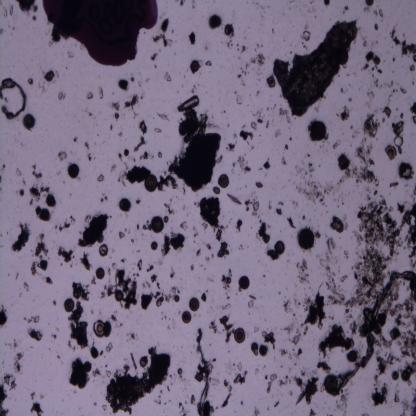Background material: (353, 199, 416, 312), (102, 345, 172, 413), (318, 238, 353, 309), (292, 159, 338, 205), (338, 142, 380, 187), (102, 267, 139, 309), (317, 323, 357, 357), (77, 212, 111, 249), (390, 26, 416, 72), (67, 304, 91, 350), (150, 276, 181, 308), (196, 327, 207, 415), (304, 289, 328, 328), (198, 195, 222, 230), (295, 373, 319, 407), (172, 113, 206, 136), (67, 357, 89, 389), (374, 75, 409, 95), (10, 221, 30, 254), (119, 166, 152, 186), (363, 48, 384, 77), (374, 372, 390, 410), (162, 231, 185, 257), (285, 301, 302, 336), (295, 252, 311, 286), (391, 119, 406, 155), (220, 314, 235, 345), (34, 231, 50, 258), (364, 112, 381, 137), (219, 267, 234, 295), (233, 362, 250, 386), (40, 68, 60, 88), (331, 213, 351, 233), (334, 391, 349, 416), (71, 282, 89, 302), (56, 216, 77, 233), (124, 92, 140, 114), (398, 161, 414, 183), (57, 245, 75, 264), (26, 186, 43, 206), (220, 379, 233, 405), (15, 0, 39, 14), (401, 392, 415, 416), (157, 175, 178, 191), (256, 222, 270, 244), (249, 52, 266, 70), (132, 135, 148, 154), (235, 64, 249, 85), (244, 198, 260, 216), (207, 12, 222, 31), (0, 386, 10, 414), (266, 370, 277, 394), (79, 254, 93, 272), (278, 107, 291, 126), (13, 352, 24, 374), (141, 292, 153, 312), (316, 359, 332, 374), (154, 34, 172, 47), (217, 241, 230, 259), (237, 157, 252, 172), (262, 330, 276, 346), (28, 327, 42, 342), (3, 373, 17, 388), (0, 306, 9, 329), (111, 100, 121, 120), (247, 293, 258, 311), (160, 15, 171, 33), (249, 117, 264, 130), (31, 164, 44, 179), (382, 101, 392, 120), (30, 401, 43, 415), (231, 90, 243, 105), (164, 202, 176, 217), (137, 356, 150, 369), (240, 129, 254, 141), (266, 249, 280, 261), (142, 218, 154, 232), (409, 100, 416, 124), (223, 24, 235, 38), (349, 318, 359, 334), (188, 30, 198, 46), (286, 215, 296, 231), (90, 367, 103, 379), (352, 123, 364, 136), (37, 259, 50, 271), (46, 194, 57, 208), (332, 138, 346, 149), (175, 402, 186, 416), (342, 105, 350, 124), (368, 90, 378, 105), (104, 320, 113, 336), (344, 306, 353, 322), (57, 148, 68, 161), (300, 30, 311, 43), (120, 78, 130, 92), (216, 226, 226, 240), (360, 35, 370, 49), (210, 319, 218, 336), (206, 401, 215, 416), (147, 52, 159, 63), (14, 166, 24, 179), (138, 152, 151, 162), (180, 219, 188, 235), (97, 87, 106, 101), (292, 332, 301, 346), (84, 90, 95, 101), (111, 314, 122, 325), (278, 378, 290, 388), (272, 127, 282, 139), (158, 111, 170, 121), (162, 72, 172, 84), (394, 390, 402, 405), (258, 344, 268, 356), (409, 182, 416, 198), (23, 277, 30, 293), (212, 185, 222, 196), (370, 38, 379, 50), (110, 161, 118, 174), (279, 347, 289, 357), (276, 198, 286, 208), (146, 262, 156, 272), (280, 155, 289, 166), (205, 58, 214, 69), (226, 143, 237, 152), (236, 219, 243, 233), (129, 330, 137, 342), (28, 316, 40, 324), (31, 260, 37, 276), (264, 159, 272, 171), (169, 266, 176, 279), (369, 188, 379, 197), (373, 8, 383, 17), (11, 337, 19, 348), (388, 182, 399, 190), (27, 74, 34, 86), (100, 191, 107, 203), (252, 404, 259, 416), (137, 258, 144, 270), (256, 179, 264, 189), (252, 110, 262, 118), (153, 398, 163, 406), (226, 40, 234, 50), (18, 188, 26, 198), (141, 77, 151, 85), (372, 22, 379, 33), (97, 173, 104, 184), (264, 118, 271, 129), (106, 344, 113, 355), (272, 399, 280, 408), (153, 127, 162, 135), (46, 276, 54, 285), (308, 408, 317, 416), (189, 395, 195, 407), (86, 150, 92, 162), (275, 208, 284, 216), (154, 280, 161, 290), (157, 150, 164, 160), (297, 348, 304, 358), (192, 226, 198, 237), (101, 401, 107, 412), (141, 92, 147, 103), (58, 92, 66, 100), (43, 186, 51, 194), (204, 240, 211, 249), (30, 390, 36, 400), (51, 331, 57, 341), (222, 303, 232, 309), (359, 411, 371, 416), (117, 151, 123, 161), (108, 123, 115, 131), (287, 354, 294, 362), (299, 214, 307, 221), (129, 75, 136, 83), (151, 271, 156, 282), (9, 5, 14, 16), (119, 229, 124, 240), (365, 0, 374, 6), (363, 7, 372, 13), (202, 292, 207, 302), (177, 0, 185, 6), (122, 149, 128, 157), (196, 248, 202, 256), (72, 135, 78, 143), (268, 199, 272, 211), (338, 86, 344, 94), (324, 0, 332, 6), (98, 348, 104, 356), (253, 326, 259, 334), (300, 370, 306, 378), (32, 14, 37, 23), (191, 0, 196, 9), (264, 404, 270, 411), (212, 357, 218, 364), (85, 142, 91, 149), (190, 262, 194, 272), (136, 198, 141, 206), (304, 152, 312, 157), (240, 399, 245, 407), (342, 7, 348, 13), (260, 272, 266, 278), (292, 362, 298, 368), (135, 223, 141, 229), (238, 244, 244, 250), (283, 145, 289, 151), (382, 116, 386, 124), (218, 156, 222, 164), (118, 128, 122, 136), (57, 354, 61, 362), (236, 43, 240, 51), (0, 176, 4, 184), (288, 136, 293, 142), (52, 300, 57, 306), (206, 255, 210, 262), (192, 86, 196, 93), (242, 44, 245, 53), (121, 258, 126, 263), (3, 162, 6, 170), (131, 238, 135, 244), (400, 113, 404, 119), (1, 27, 4, 35), (40, 393, 44, 399), (4, 7, 6, 18), (347, 98, 352, 102), (88, 112, 93, 116), (257, 90, 260, 96), (227, 296, 231, 300), (242, 124, 246, 128), (228, 221, 231, 226), (396, 108, 399, 113), (274, 345, 276, 351), (168, 386, 170, 392), (274, 103, 276, 108), (267, 107, 269, 111), (224, 111, 226, 113), (207, 290, 208, 292)
Cellulose filter fibre: (337, 270, 416, 398), (274, 17, 358, 122), (0, 78, 27, 120), (138, 120, 148, 136)
Diatom: (175, 94, 200, 115), (298, 226, 315, 250), (311, 120, 327, 142), (322, 374, 338, 395), (144, 174, 158, 192), (151, 215, 164, 234), (93, 320, 106, 338), (234, 327, 246, 345), (385, 144, 397, 162), (227, 192, 242, 205), (188, 297, 201, 312), (23, 114, 35, 130), (347, 348, 358, 364), (218, 173, 229, 189), (181, 310, 193, 324), (238, 276, 250, 290), (119, 197, 130, 212), (64, 297, 75, 312), (274, 242, 286, 255), (68, 165, 80, 178), (96, 266, 106, 281), (40, 206, 50, 221), (149, 240, 160, 253), (190, 60, 200, 73), (390, 327, 400, 340), (250, 341, 258, 356), (83, 360, 93, 372), (266, 76, 276, 88), (100, 245, 110, 256), (115, 290, 124, 302), (402, 370, 411, 382), (90, 347, 98, 358), (392, 370, 400, 381), (162, 214, 170, 223), (177, 368, 182, 376)
Fragment: (178, 129, 222, 188)
Pen: (42, 0, 158, 67)
